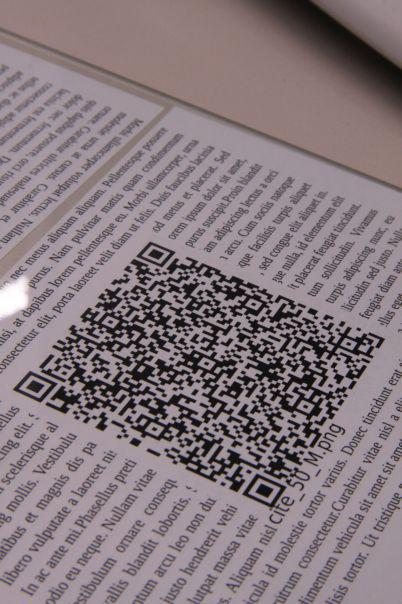Finder pattern: (238, 475, 290, 510), (12, 370, 56, 405), (134, 238, 177, 270)
